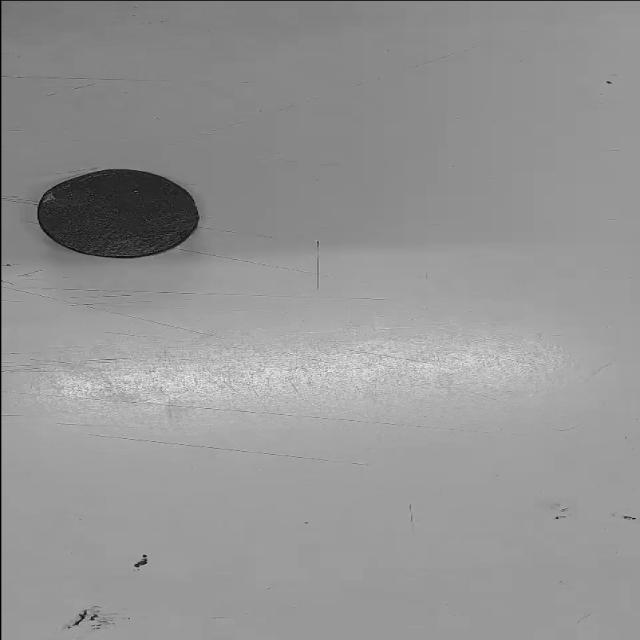rcircle: (38, 169, 199, 259)
